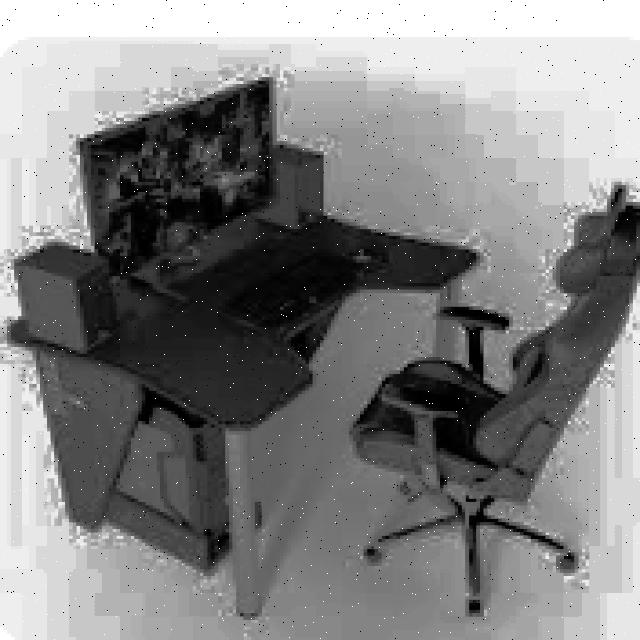book: (345, 182, 640, 616)
table: (4, 199, 480, 616)
